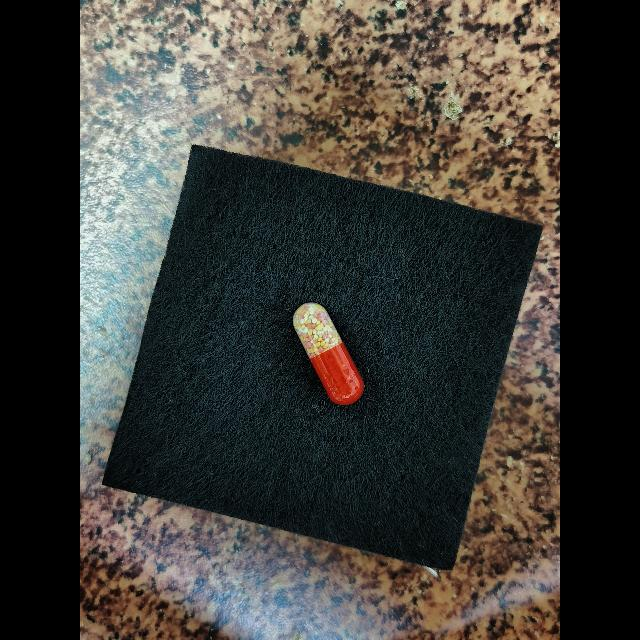Intact Capsule: (293, 302, 364, 405)
